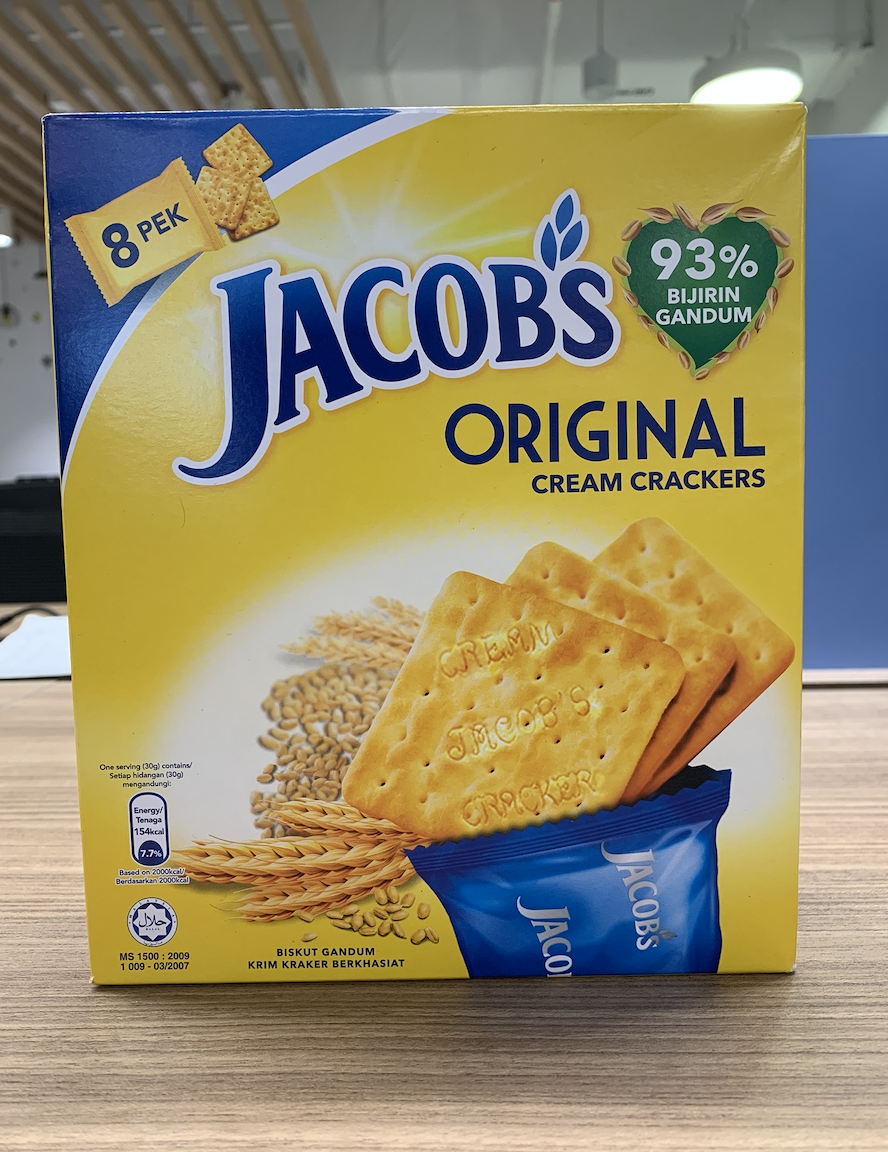crackers_150g: (64, 129, 791, 965)
